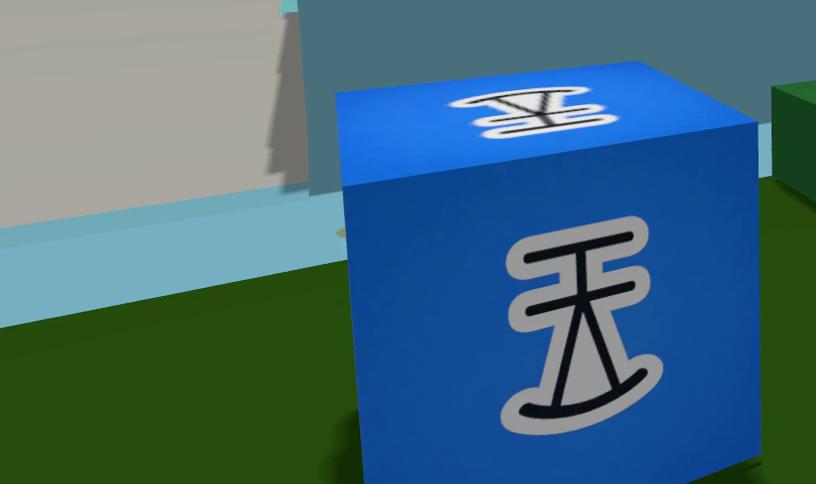KFS_REAL: (336, 62, 759, 483), (501, 216, 661, 435), (448, 85, 619, 138)
